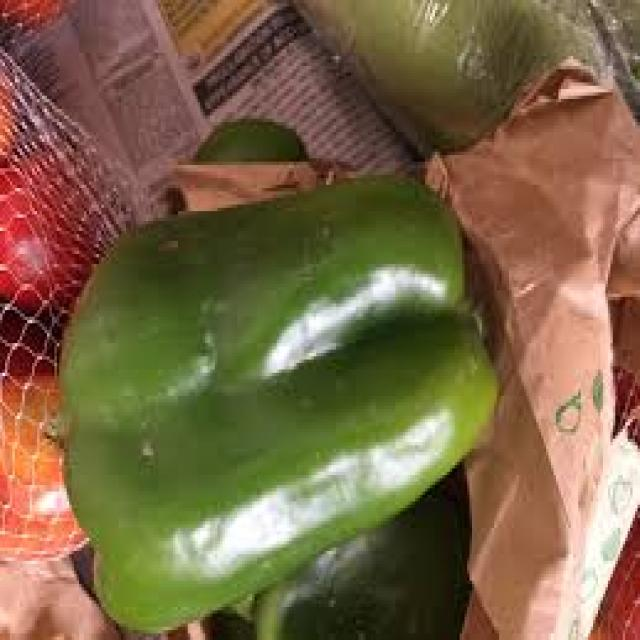biodegradable: (52, 172, 497, 630), (200, 452, 470, 637), (296, 0, 598, 148), (0, 132, 128, 320), (0, 307, 91, 561), (180, 112, 309, 162), (0, 0, 66, 36), (0, 55, 12, 158)
paper: (420, 53, 638, 637), (12, 0, 420, 172), (156, 162, 344, 211), (0, 554, 91, 636)
